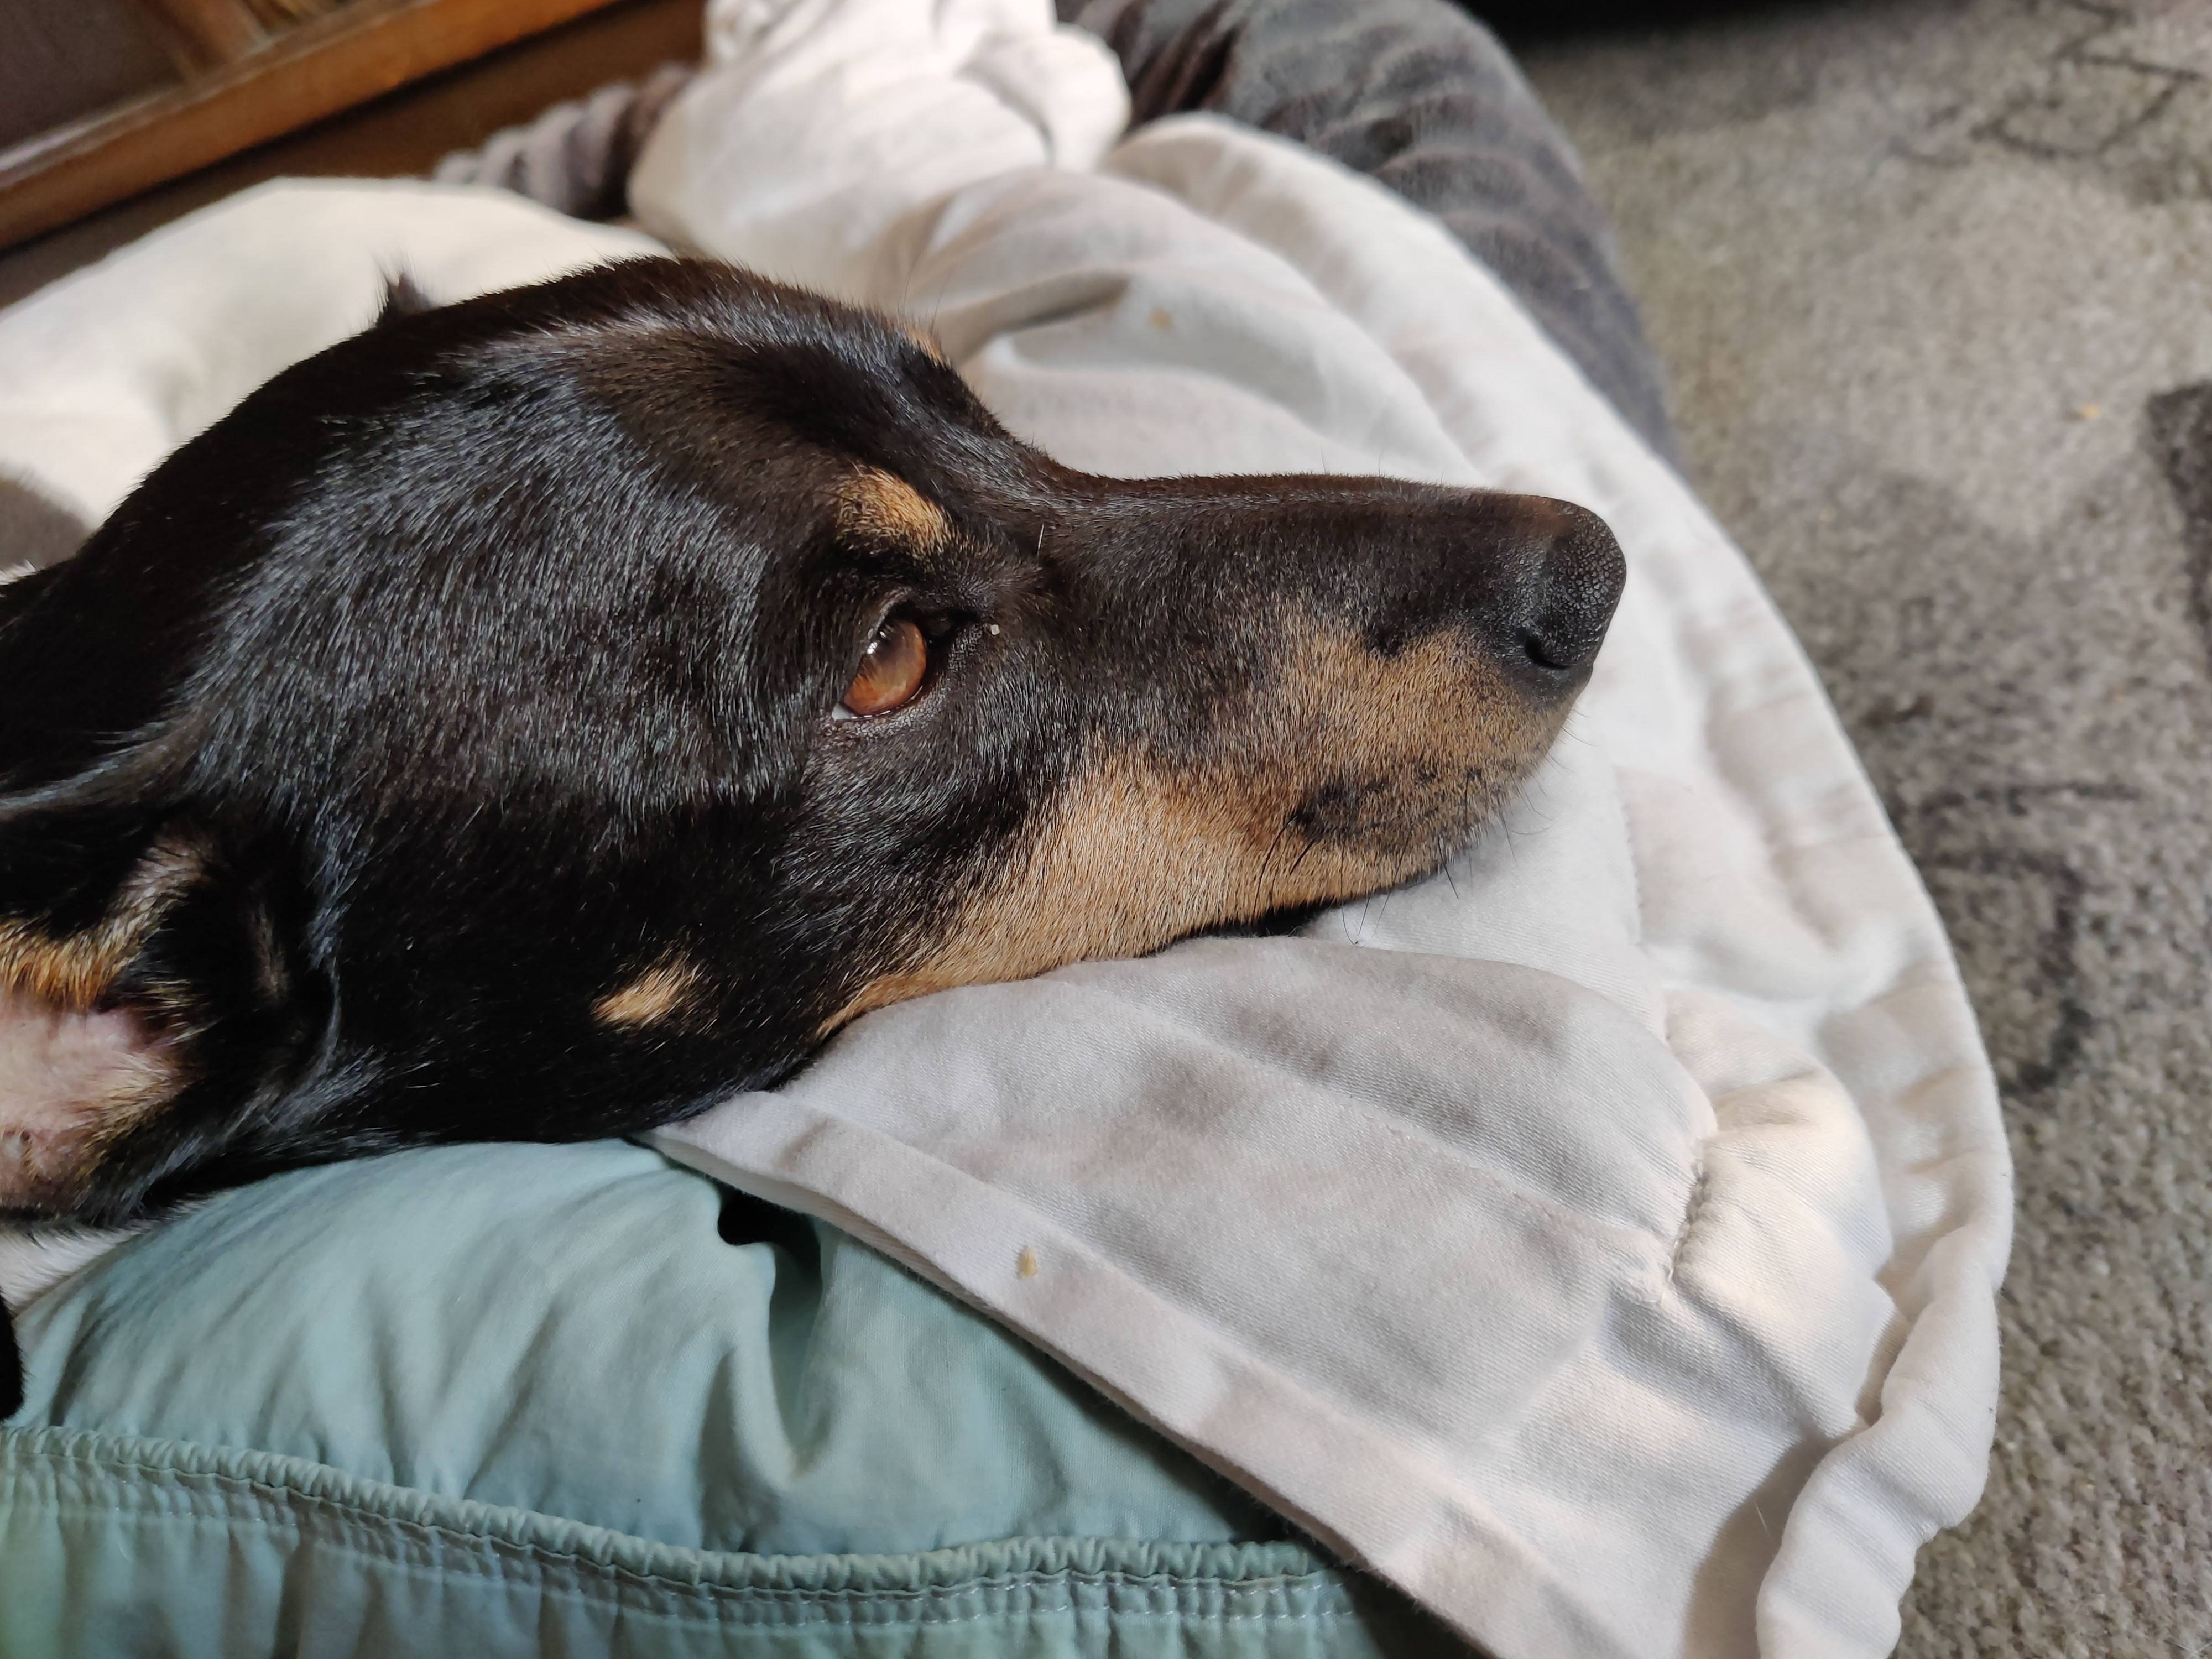Dog: (0, 152, 1635, 1344)
